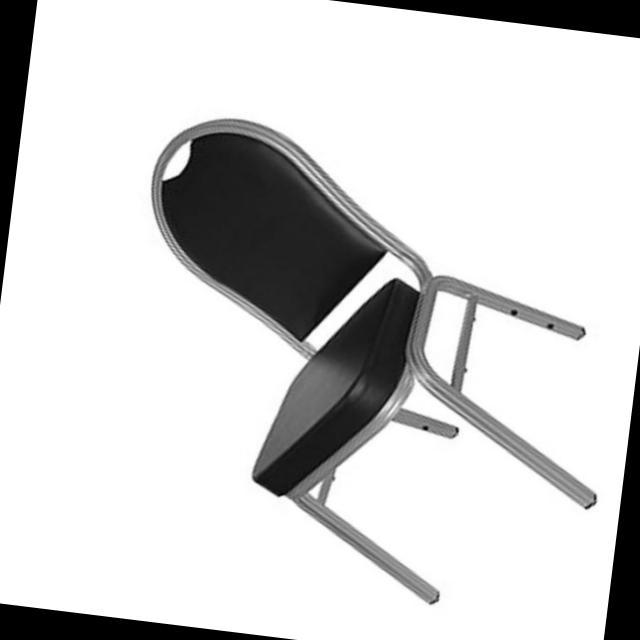chair: (96, 104, 640, 626)
